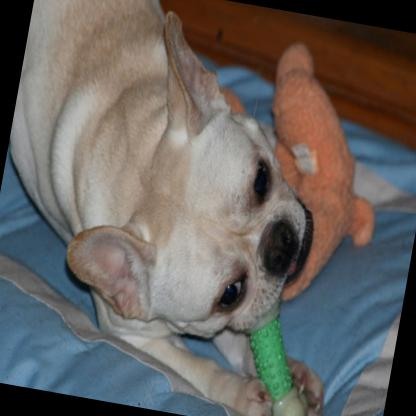French_bulldog: (0, 0, 351, 416)
